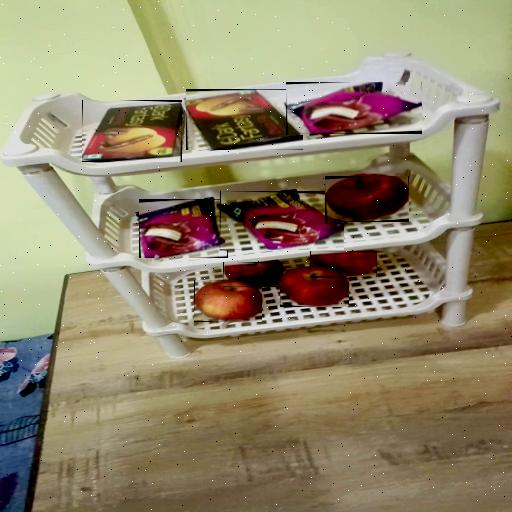Apple: (325, 176, 409, 222), (194, 280, 262, 322), (280, 267, 349, 307), (310, 251, 377, 277), (223, 262, 283, 287)
Choco Fills: (186, 89, 303, 150), (82, 100, 182, 162)
Choco Pie: (220, 191, 344, 250), (286, 82, 422, 134), (139, 199, 228, 258)
